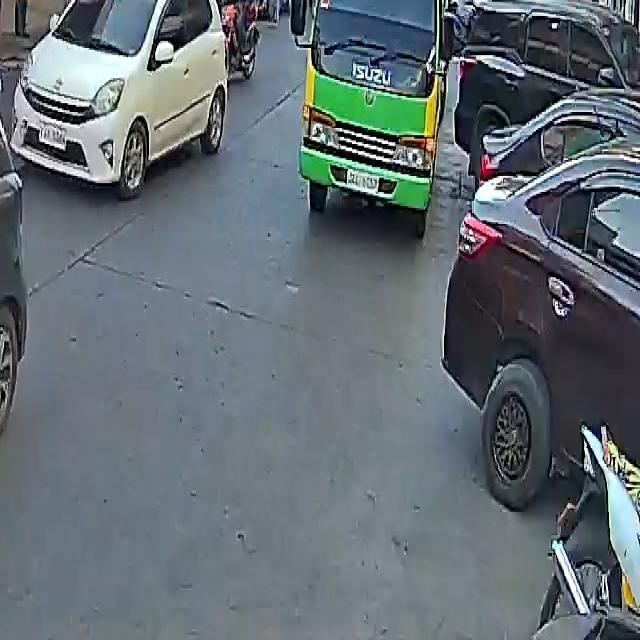car: (443, 73, 640, 529), (11, 0, 228, 197), (449, 0, 639, 183), (0, 21, 55, 635)
